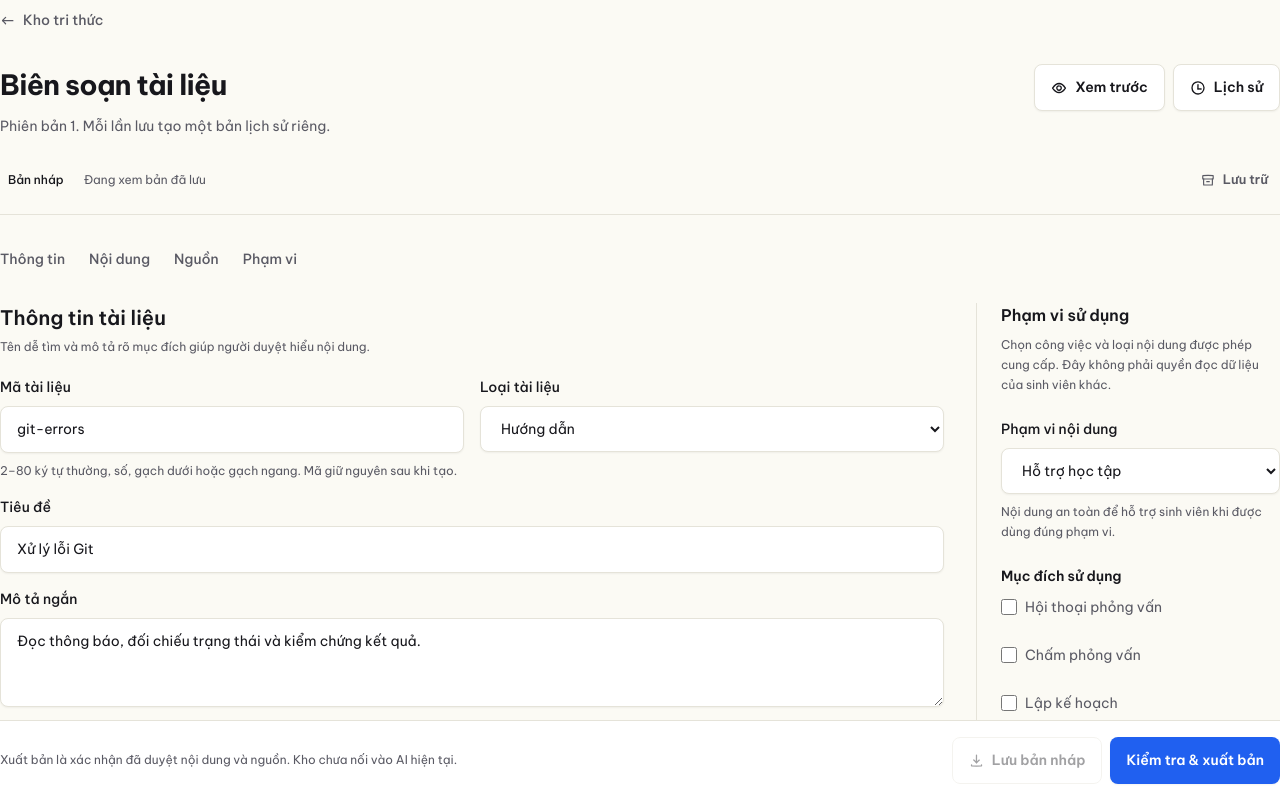
Test: requires confirmation to leave an unsaved draft through its library link
The image size is (1280, 800).
Replace the text in the field labelled "Tiêu đề" with "Tên chưa lưu" at x=472, y=550, box [0,526,944,573]
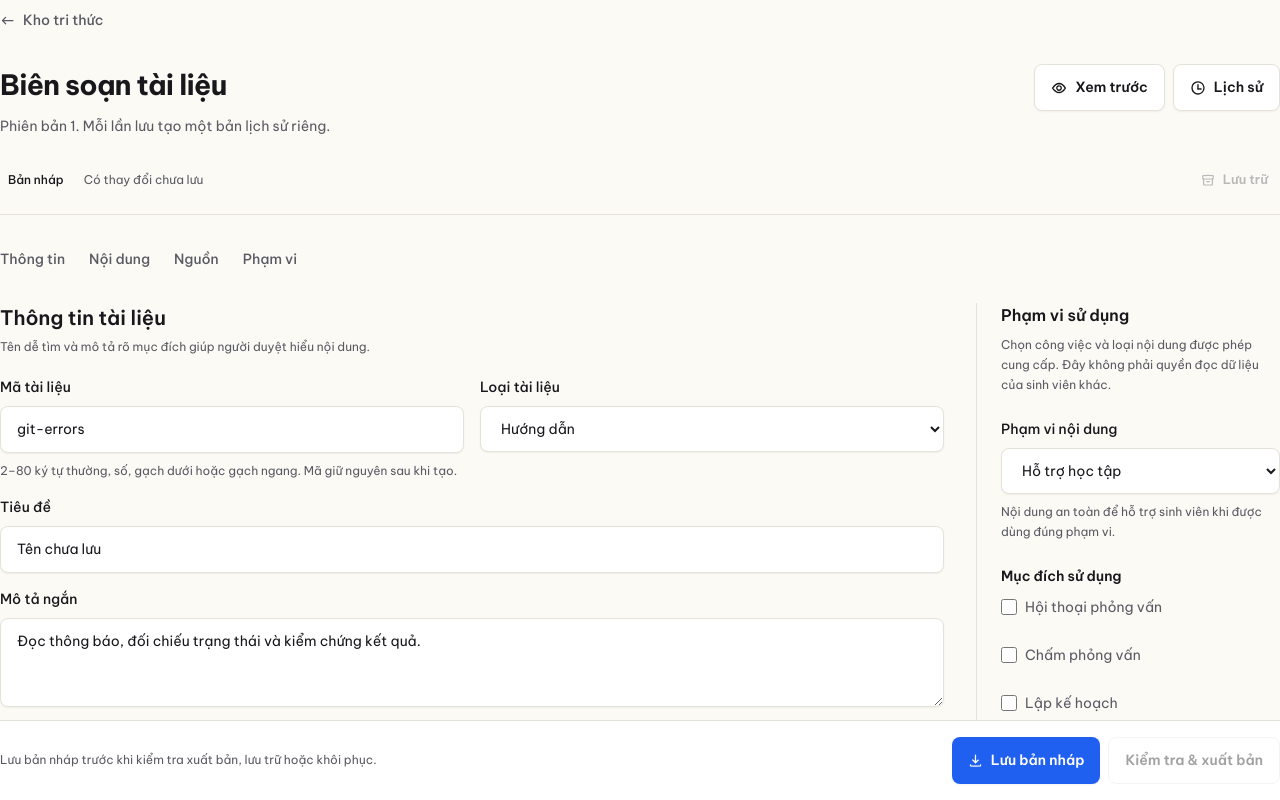
Click the link "Kho tri thức".
click(52, 20)  # box [0,10,104,28]
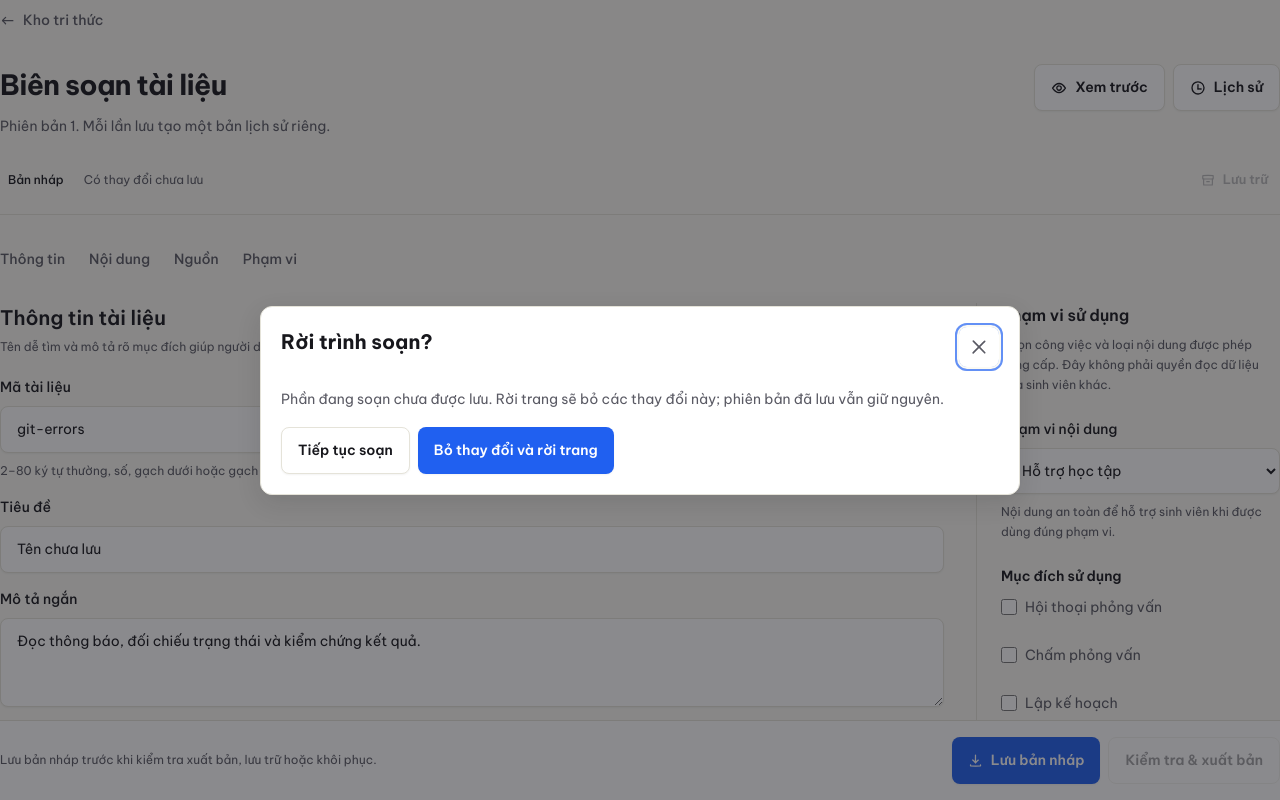
Click the button "Tiếp tục soạn".
click(345, 450)  # box [281,426,410,474]
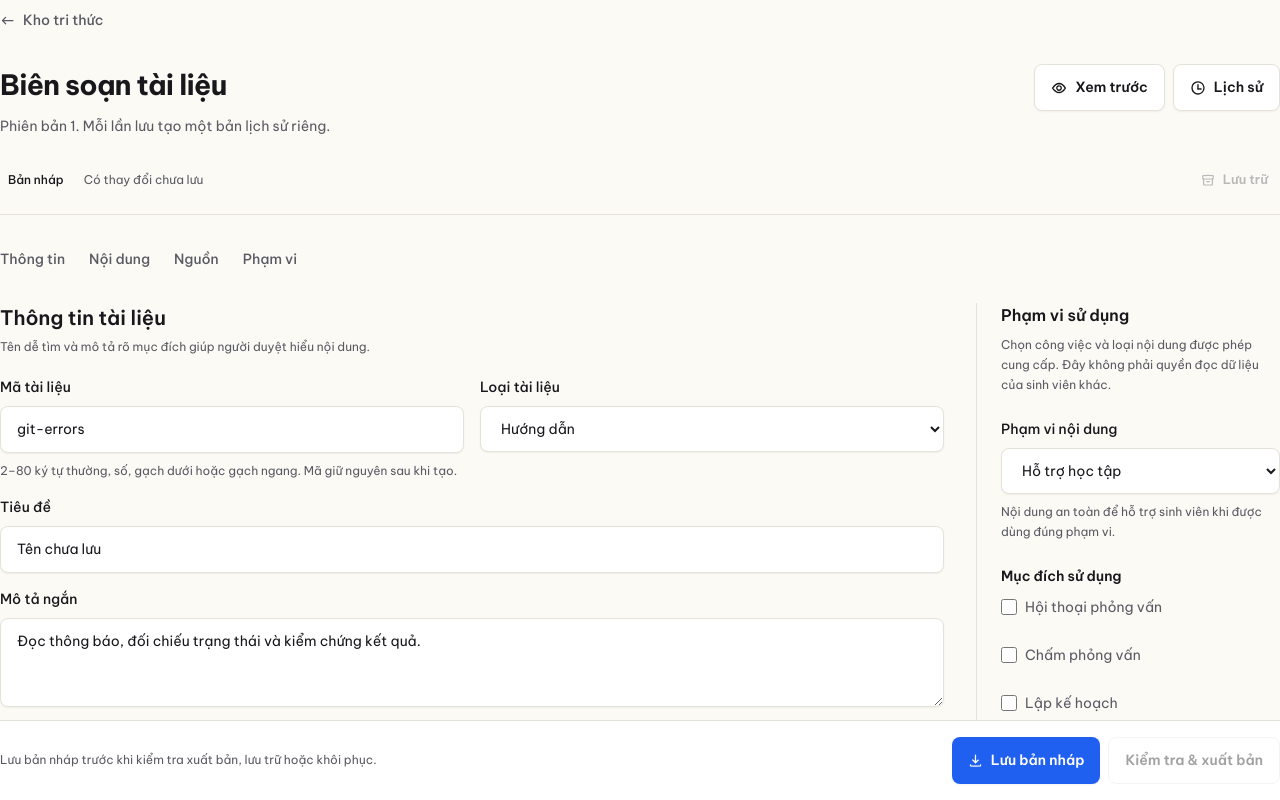
Now the dialog is gone
